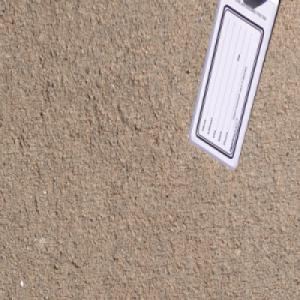LuggageTag: (187, 0, 280, 172)
